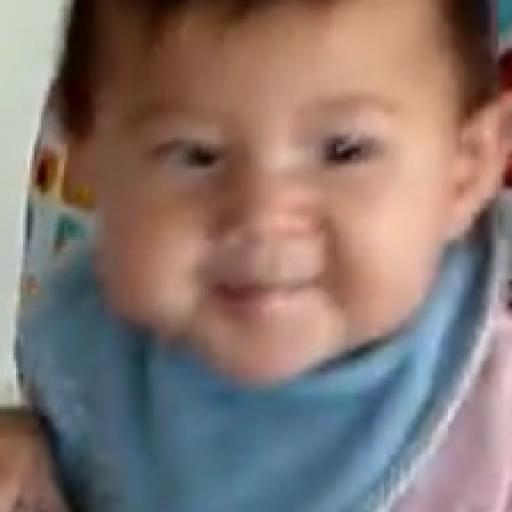Autism: (43, 0, 511, 427)
